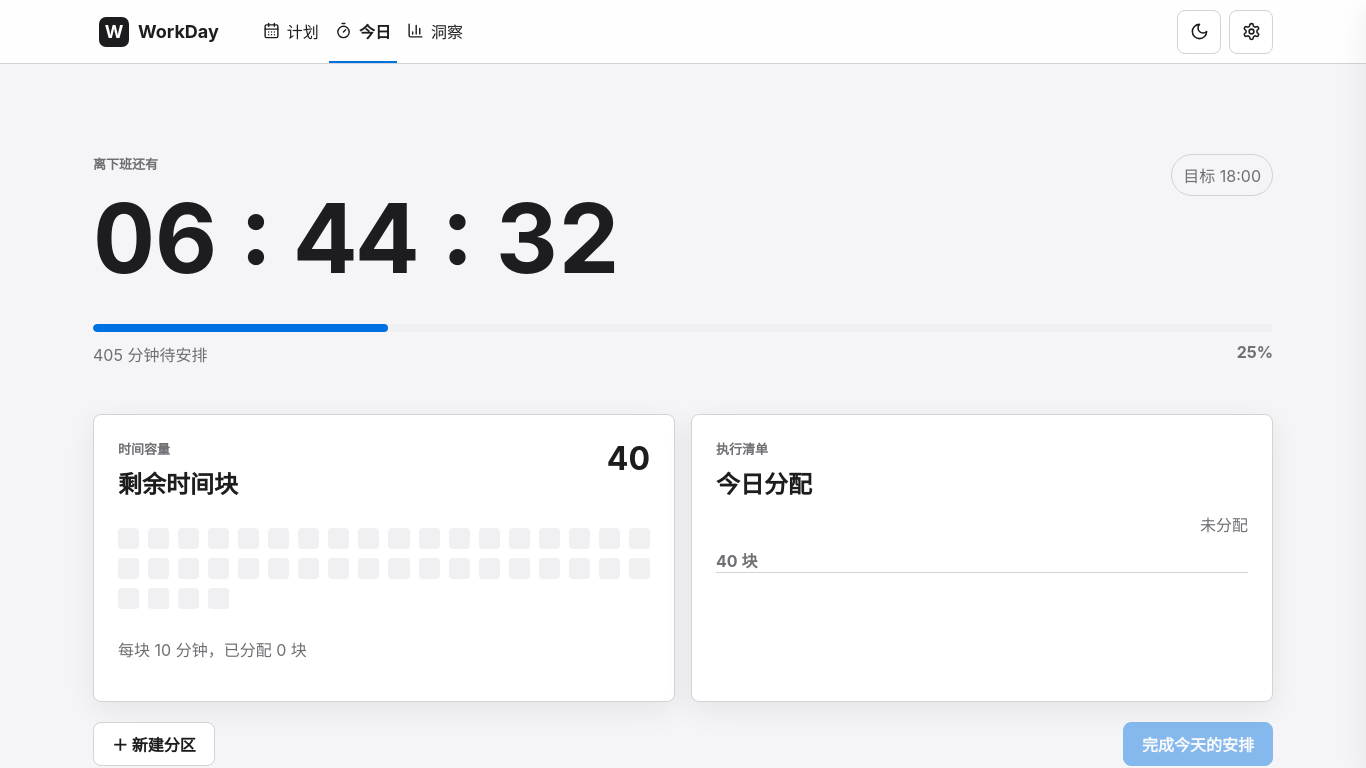
Test: WorkDay 核心流程 › 能够新建分区并分配时间块
The width and height of the screenshot is (1366, 768).
Click the button "＋ 新建分区".
click(154, 744)  # box [93,722,215,766]
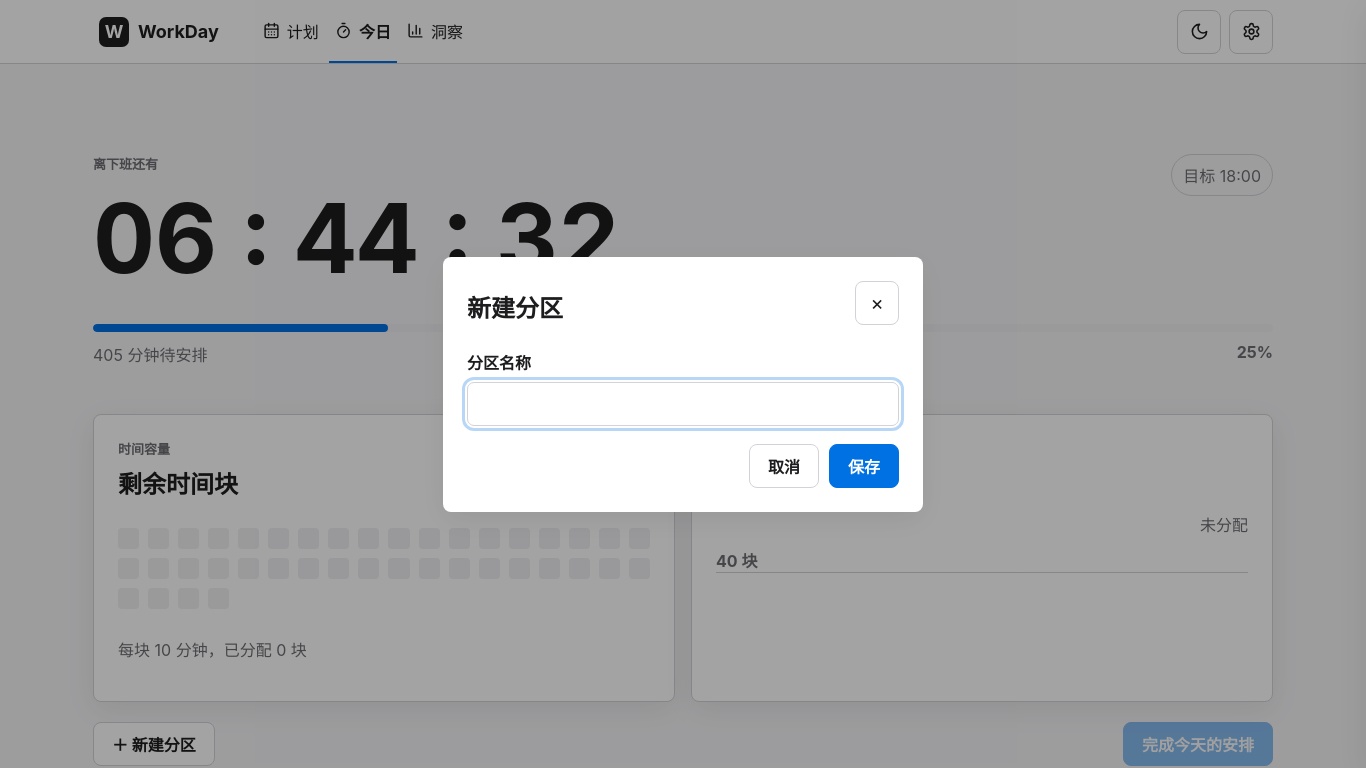
Type "专注工作" into the field labelled "分区名称".
click(683, 404); type("专注工作")  # box [467,382,899,426]
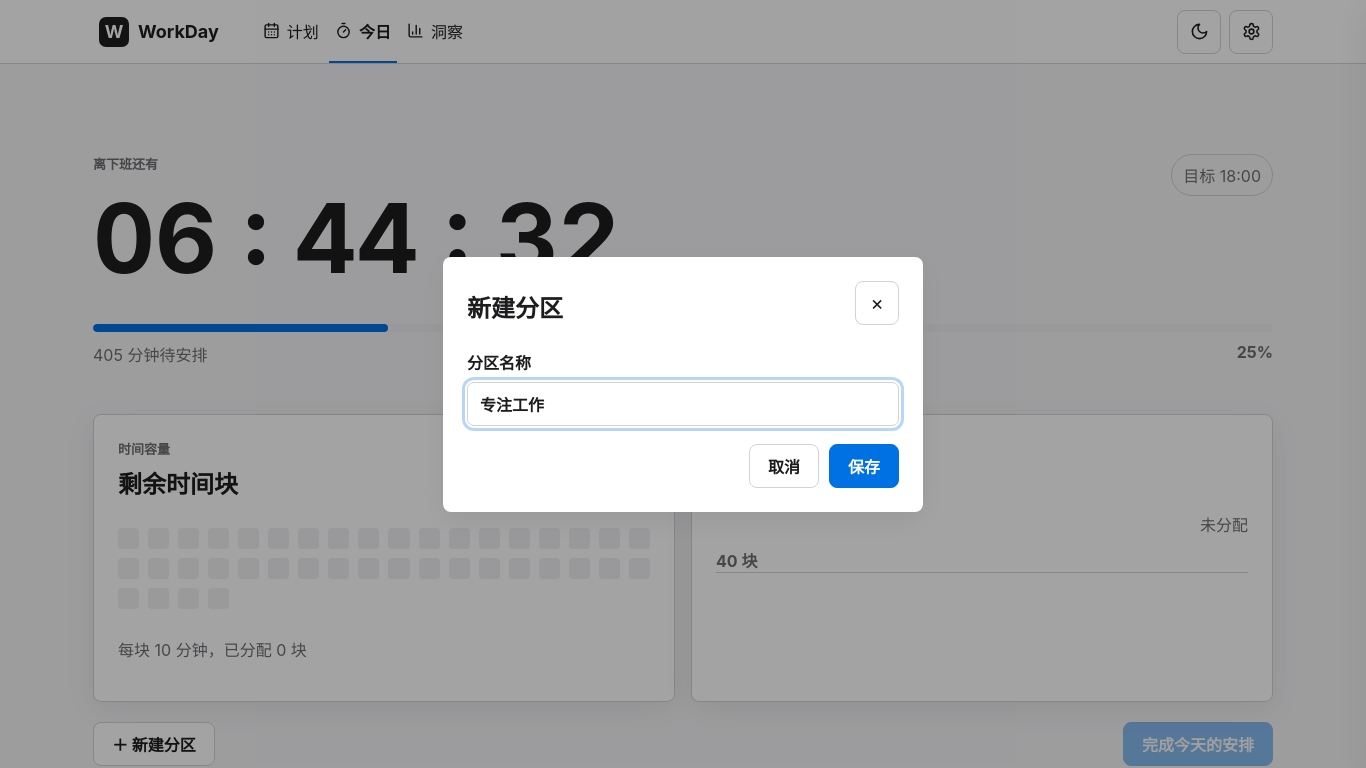
Click the button "保存".
click(864, 466)  # box [829,444,899,488]
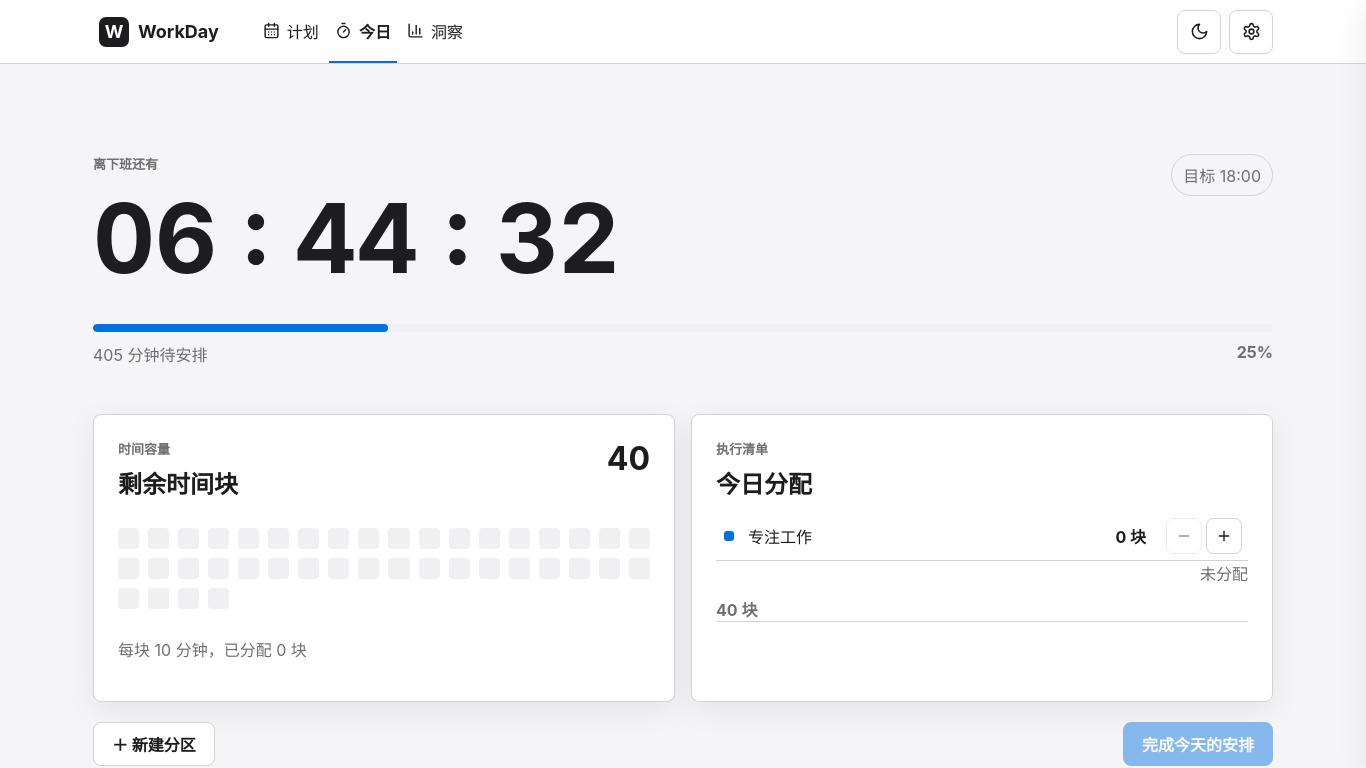
Result: the text "专注工作" is shown at [748,527,812,547]
Click the button named "增加 专注工作 的时间块".
click(1224, 536)  # box [1206,518,1242,554]
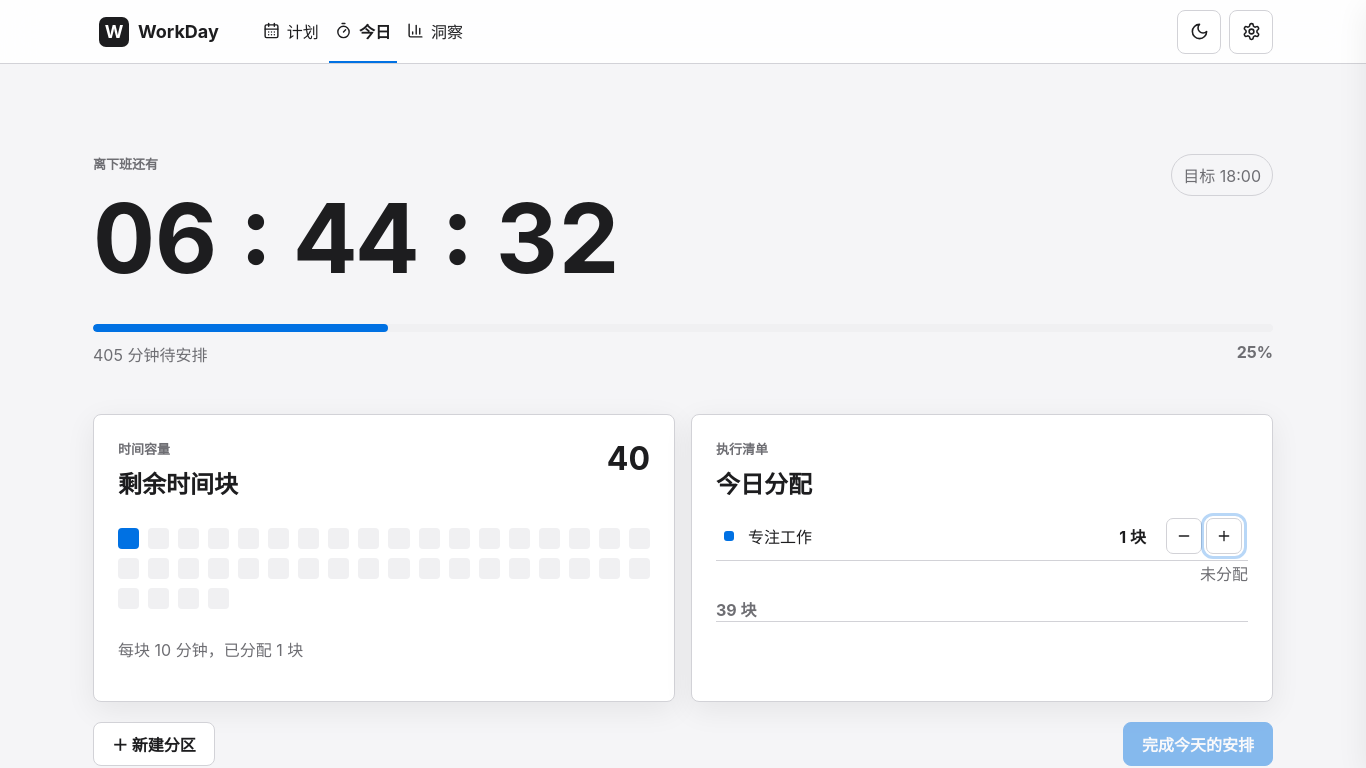
Result: the text "1 块" is shown at [1119,524,1146,548]
